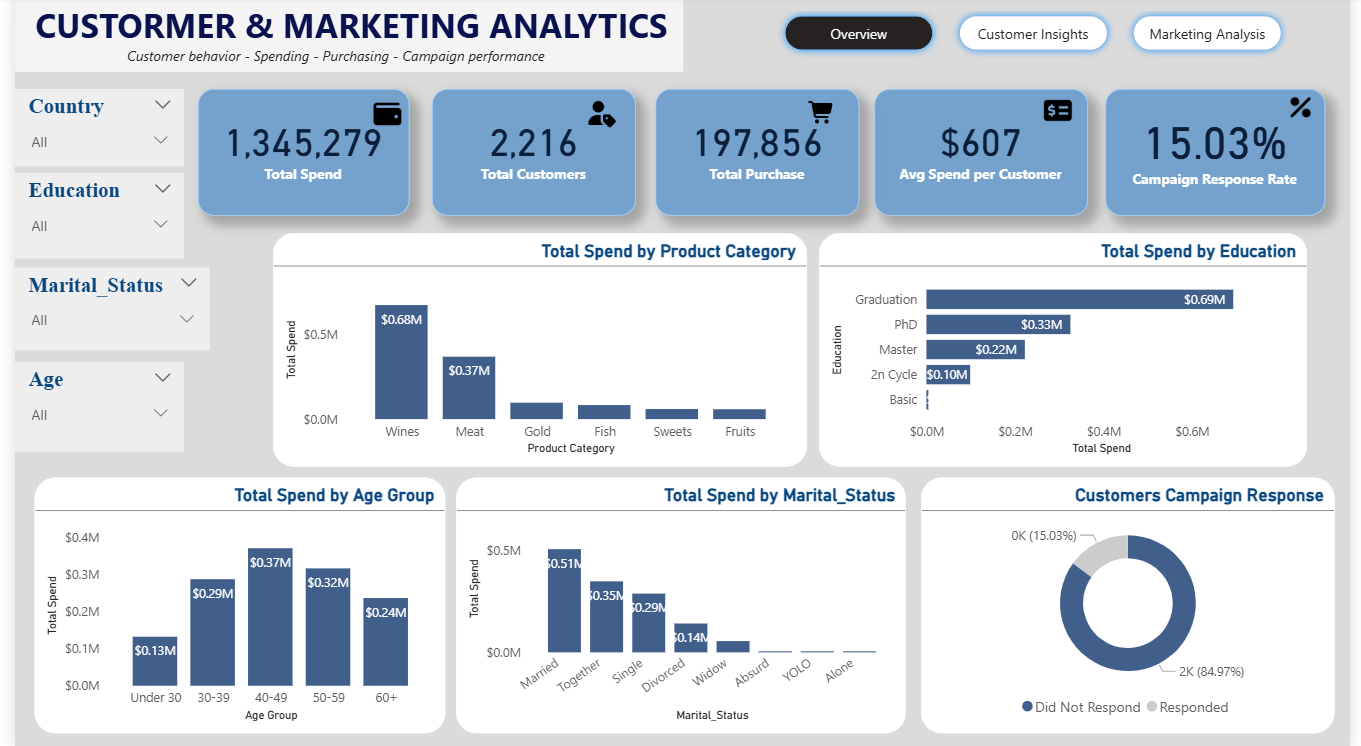

Layout of this report page (visuals, bound fields, positions):
{"tool":"powerbi","page":{"name":"Overview","canvas":[1280,720],"ordinal":0},"visuals":[{"type":"cardVisual","fields":{"Data":["Measures (2).Total Customers"]},"box":[399.8,89.3,195.3,121.1],"z":0},{"type":"cardVisual","fields":{"Data":["Measures (2).Total Spend"]},"box":[175.6,89.3,202.9,121.1],"z":1000},{"type":"cardVisual","fields":{"Data":["Measures (2).Total Purchase"]},"box":[614.8,89.3,195.3,121.1],"z":2000},{"type":"cardVisual","fields":{"Data":["Measures (2).Average Spend per customer"]},"box":[823.7,89.3,204.4,121.1],"z":3000},{"type":"clusteredColumnChart","fields":{"Category":["marketing_data.Product Category"],"Y":["Measures (2).Total Spend"]},"box":[246.8,227.1,511.8,224.1],"z":4000},{"type":"textbox","box":[0,0,640.5,72.7],"z":5000},{"type":"clusteredColumnChart","fields":{"Category":["marketing_data.Marital_Status"],"Y":["Measures (2).Total Spend"]},"box":[422.5,461.8,431.5,245.3],"z":6000},{"type":"donutChart","title":"Customers Campaign Response","fields":{"Y":["Measures (2).Total Customers"],"Category":["marketing_data.Response Lable"]},"box":[869.2,461.8,396.7,245.3],"z":7000},{"type":"clusteredBarChart","fields":{"Category":["marketing_data.Education"],"Y":["Measures (2).Total Spend"]},"box":[770.7,227.1,467.9,224.1],"z":8000},{"type":"cardVisual","fields":{"Data":["Measures (2).Campaign Response Rate"]},"box":[1044.8,89.3,210.5,121.1],"z":9000},{"type":"pageNavigator","box":[729.8,12.1,492.1,48.5],"z":10000},{"type":"columnChart","fields":{"Category":["marketing_data.Age Group"],"Y":["Measures (2).Total Spend"]},"box":[18.2,461.8,393.7,245.3],"z":11000},{"type":"image","box":[334.6,90.9,43.9,46.9],"z":12000},{"type":"image","box":[542.1,92.4,39.4,39.4],"z":13000},{"type":"image","box":[748,93.9,51.5,36.3],"z":14000},{"type":"image","box":[976.7,87.8,46.9,43.9],"z":15000},{"type":"image","box":[1211.4,87.8,43.9,37.9],"z":16000},{"type":"slicer","fields":{"Values":["marketing_data.Country"]},"box":[0,89.3,162,74.2],"z":17000},{"type":"slicer","fields":{"Values":["marketing_data.Education"]},"box":[0,169.6,162,81.8],"z":18000},{"type":"slicer","fields":{"Values":["marketing_data.Marital_Status"]},"box":[0,260.3,187,79.1],"z":19000},{"type":"slicer","fields":{"Values":["marketing_data.Age"]},"box":[0,351.3,162,86.3],"z":20000}]}

Visuals, with their boxes in screenshot pixels (x1, y1, x2, y2), scaled from the page's 1280x720 canvas onto the 1361x746 screenshot:
cardVisual - Measures (2).Total Customers: l=425, t=93, r=633, b=218
cardVisual - Measures (2).Total Spend: l=187, t=93, r=402, b=218
cardVisual - Measures (2).Total Purchase: l=654, t=93, r=861, b=218
cardVisual - Measures (2).Average Spend per customer: l=876, t=93, r=1093, b=218
clusteredColumnChart - marketing_data.Product Category x Measures (2).Total Spend: l=262, t=235, r=807, b=467
textbox: l=0, t=0, r=681, b=75
clusteredColumnChart - marketing_data.Marital_Status x Measures (2).Total Spend: l=449, t=478, r=908, b=733
"Customers Campaign Response" donutChart: l=924, t=478, r=1346, b=733
clusteredBarChart - marketing_data.Education x Measures (2).Total Spend: l=819, t=235, r=1317, b=467
cardVisual - Measures (2).Campaign Response Rate: l=1111, t=93, r=1335, b=218
pageNavigator: l=776, t=13, r=1299, b=63
columnChart - marketing_data.Age Group x Measures (2).Total Spend: l=19, t=478, r=438, b=733
image: l=356, t=94, r=402, b=143
image: l=576, t=96, r=618, b=137
image: l=795, t=97, r=850, b=135
image: l=1039, t=91, r=1088, b=136
image: l=1288, t=91, r=1335, b=130
slicer - marketing_data.Country: l=0, t=93, r=172, b=169
slicer - marketing_data.Education: l=0, t=176, r=172, b=260
slicer - marketing_data.Marital_Status: l=0, t=270, r=199, b=352
slicer - marketing_data.Age: l=0, t=364, r=172, b=453
